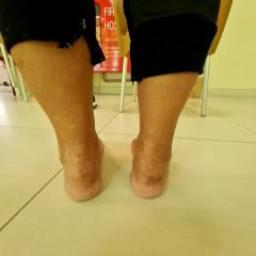Back View -Both Feet-: (41, 114, 195, 215)
